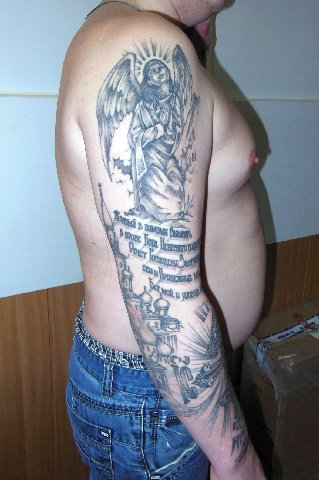tatu1_angel: (87, 37, 212, 225)
tatu3_bukva: (109, 210, 216, 302)
